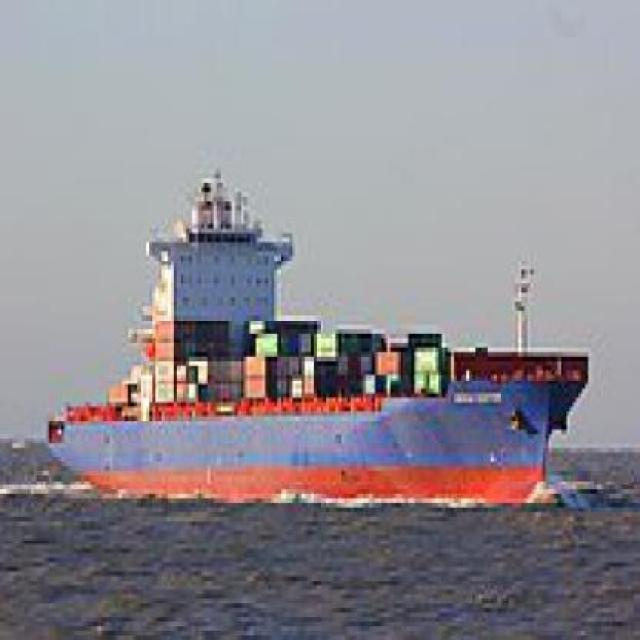container: (34, 147, 605, 513)
